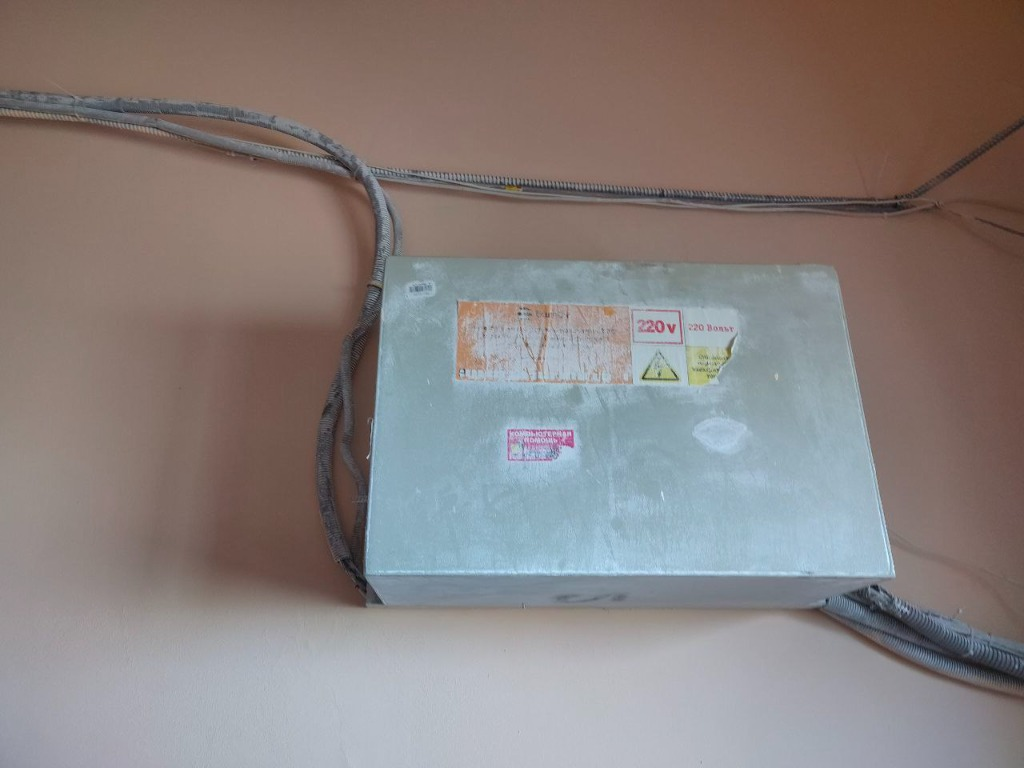sv-5: (357, 247, 901, 613)
